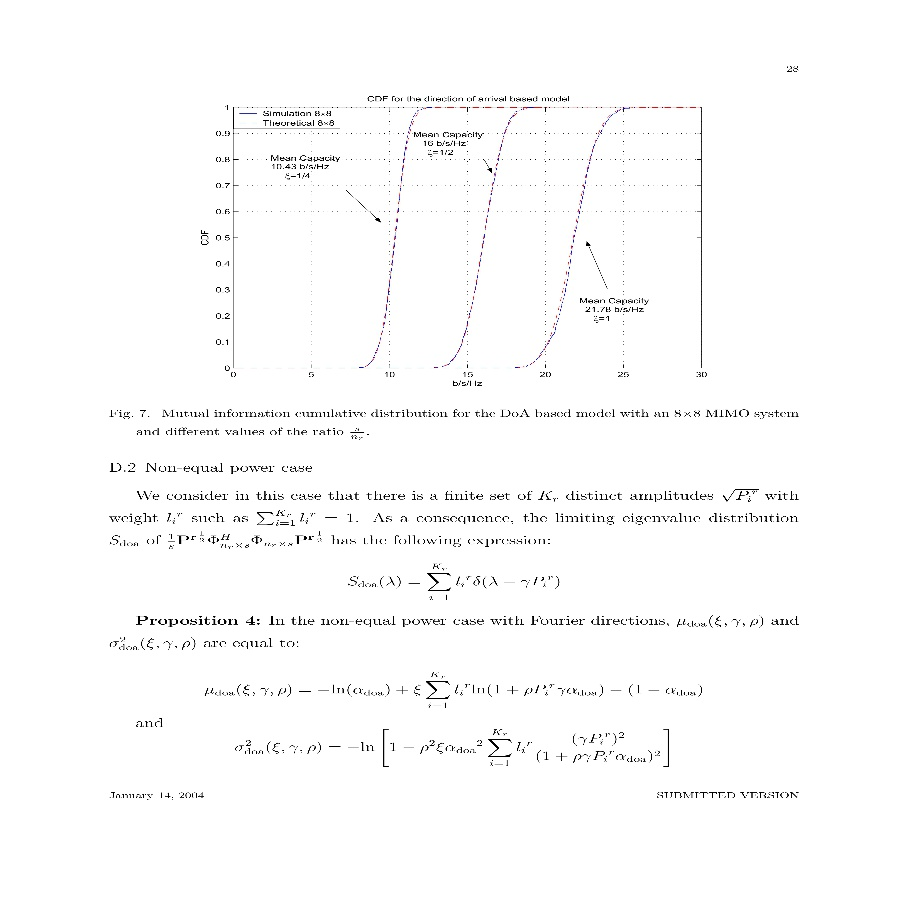eq: (202, 672, 707, 711), (234, 726, 674, 770), (345, 560, 562, 603)
